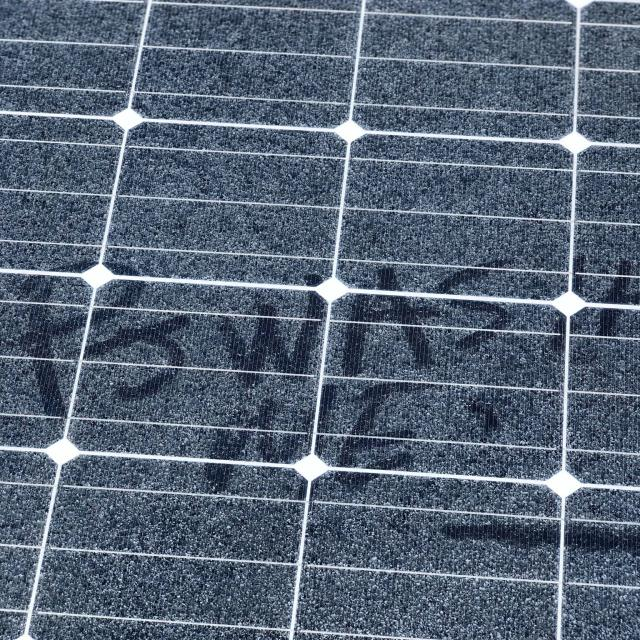dust-solar-panel: (2, 0, 638, 640)
